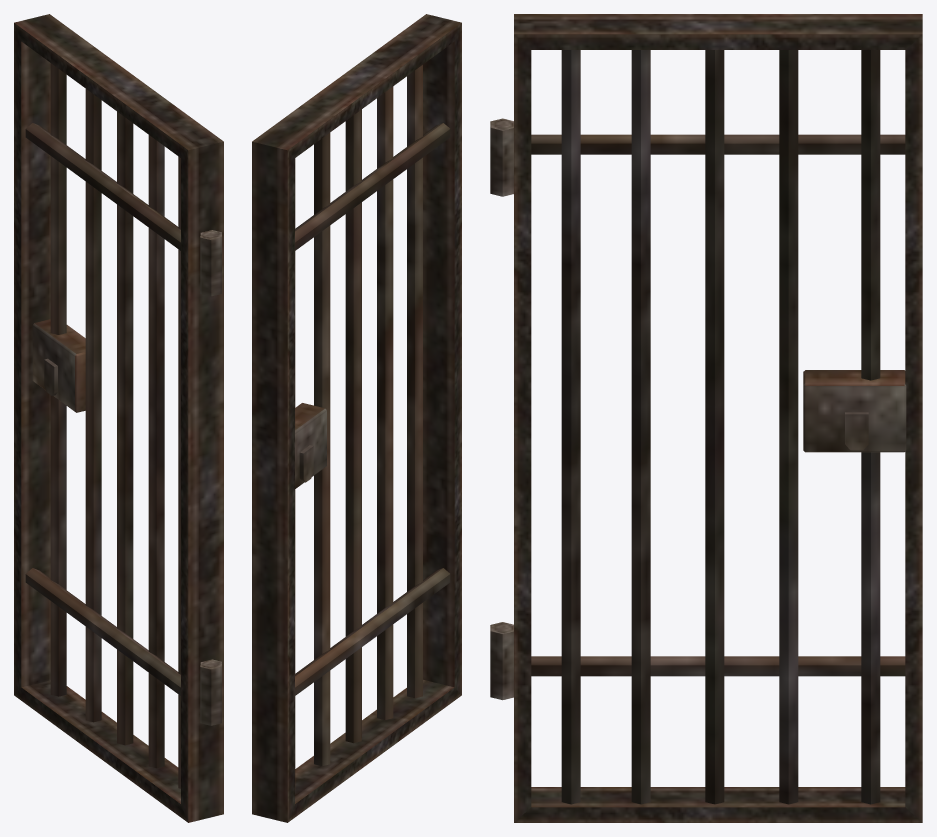
The model's file is o_mdl_env_cierzoMayorInteriorDoor-transformed.glb.
The picture shows the model from 3 angles, left to right: view 1: azimuth 30°, elevation 25°; view 2: azimuth 150°, elevation 25°; view 3: azimuth 270°, elevation 25°; orthographic projection. The views are drawn at different scales.
Visible parts, largest first — view 1: default; view 2: default; view 3: default.
Part boxes in pixels (x1,y1,x2,y2): default: (14,14,223,822); default: (252,14,461,822); default: (490,14,922,822).
Size of the model in its own units: 0.1438 by 2.29 by 1.14.
Materials: 1 (1 with a texture image).
